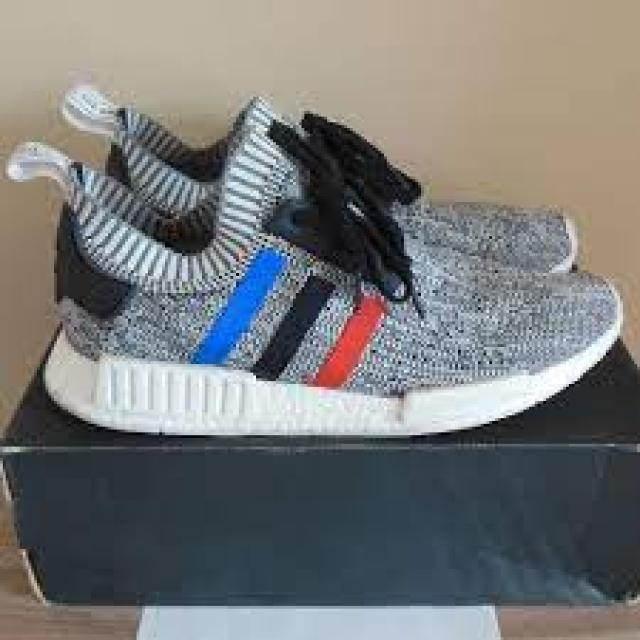shoe: (9, 133, 629, 440)
